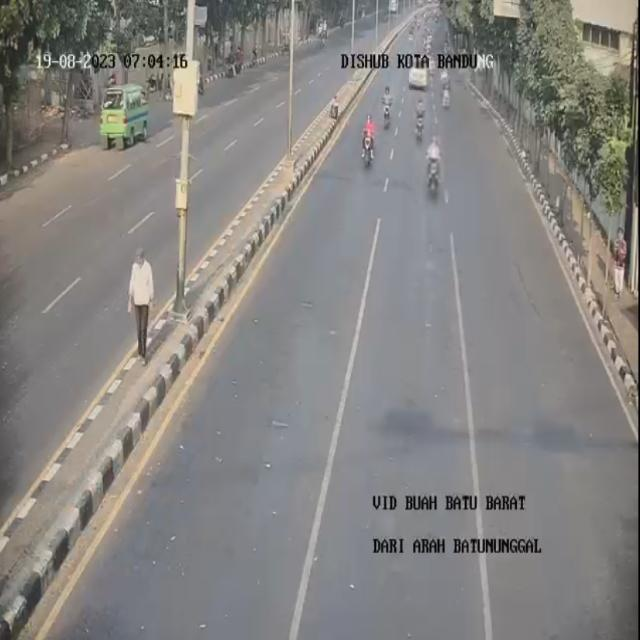motorcycle: (422, 129, 450, 199), (359, 111, 380, 172), (411, 95, 428, 146), (379, 82, 394, 128), (409, 58, 429, 90), (440, 77, 457, 114)
